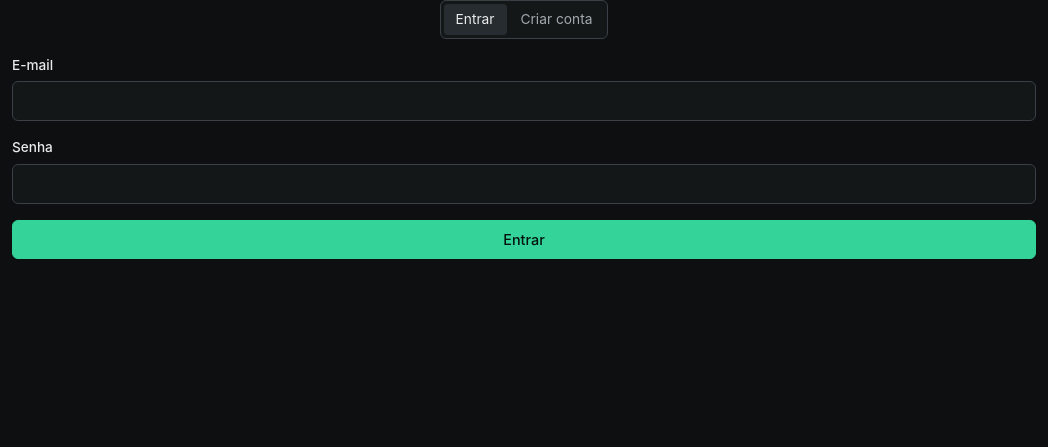
Test: AuthForm password policy › enforces minimum 10 characters on registration
Step 1. Click the tab "Criar conta" → (556, 19), box 508,4 -> 604,35
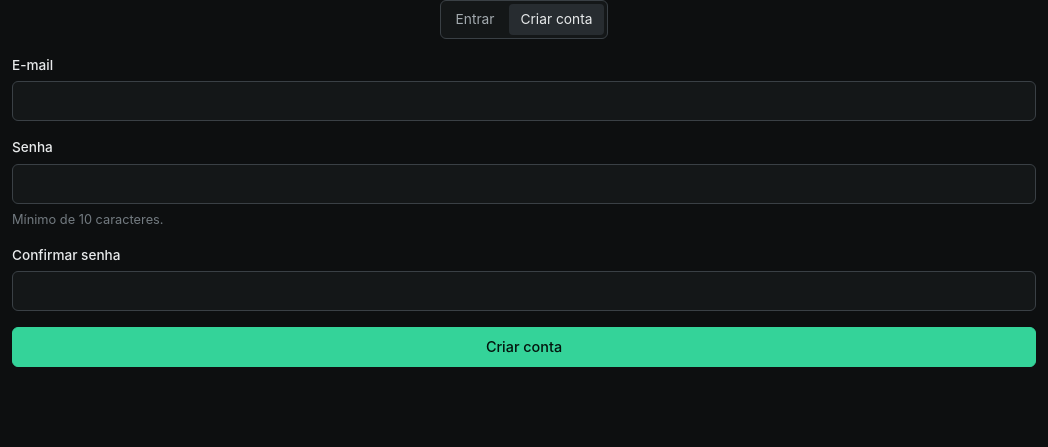
Step 2. Type "u@example.com" into the field labelled "E-mail" → (524, 101), box 12,81 -> 1036,121
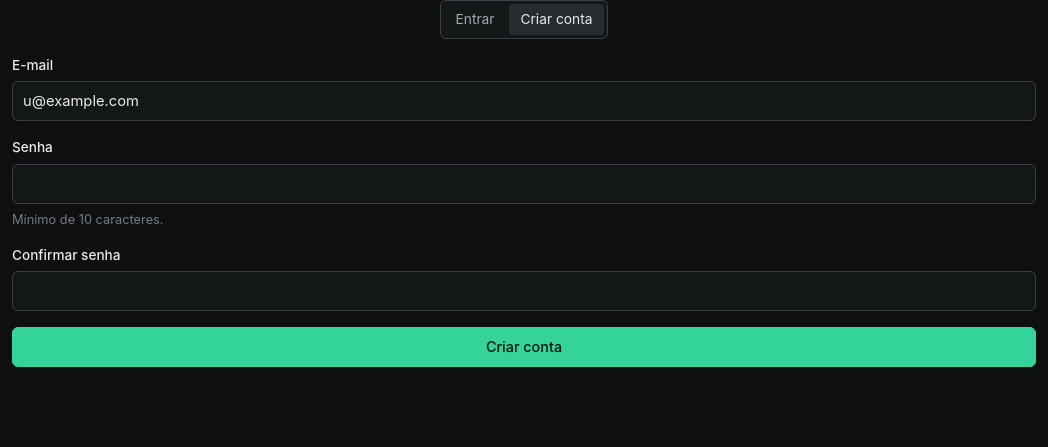
Step 3. Type "123456789" into the password field labelled "Senha" → (524, 184), box 12,164 -> 1036,204
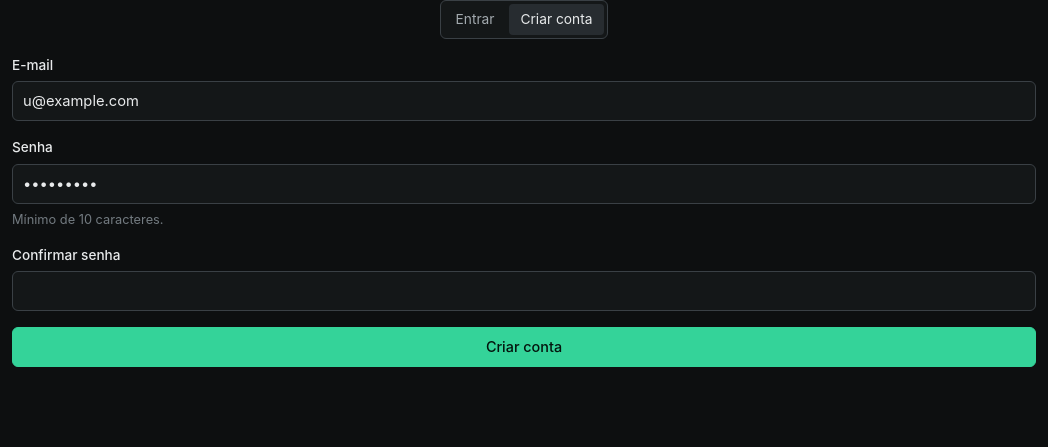
Step 4. Type "123456789" into the password field labelled "Confirmar senha" → (524, 291), box 12,271 -> 1036,311
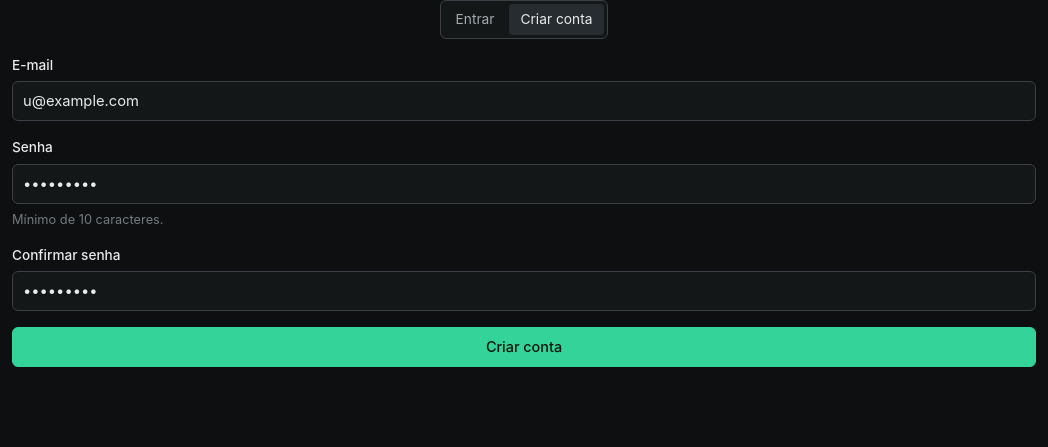
Step 5. Submit the form "Criar conta"
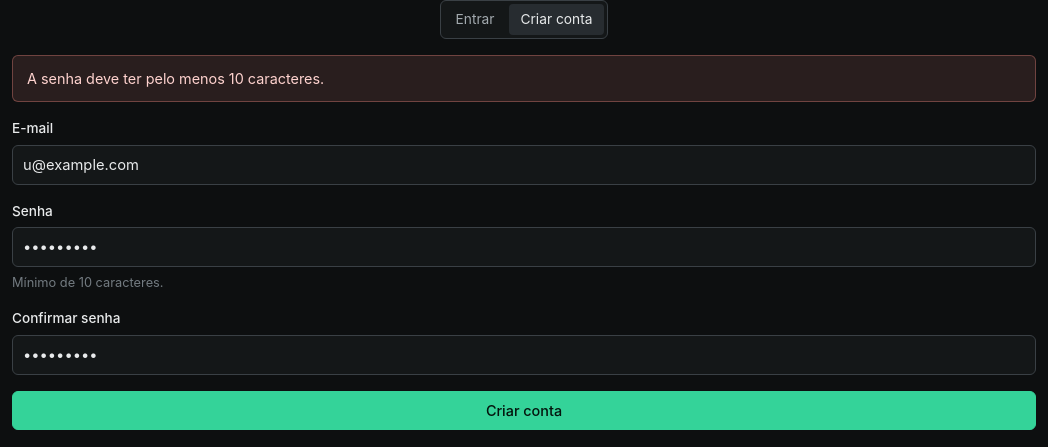
Expected: the text "A senha deve ter pelo menos 10 caracteres." is shown, 27,70 -> 324,87
